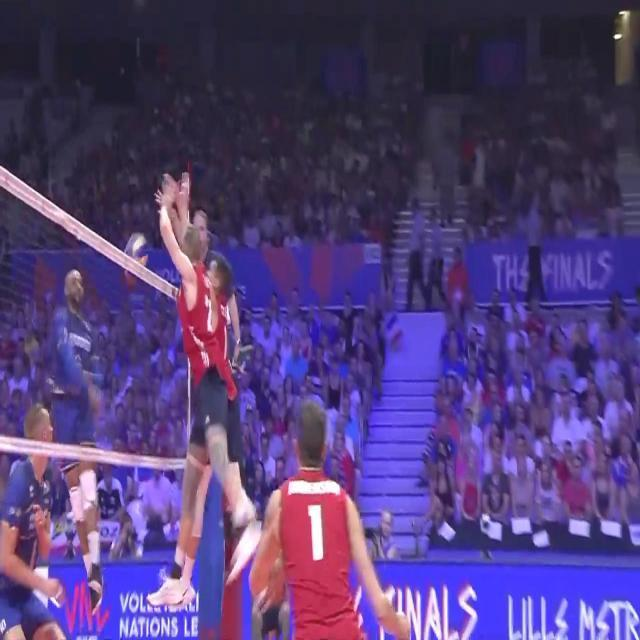volleyball: (125, 234, 148, 267)
